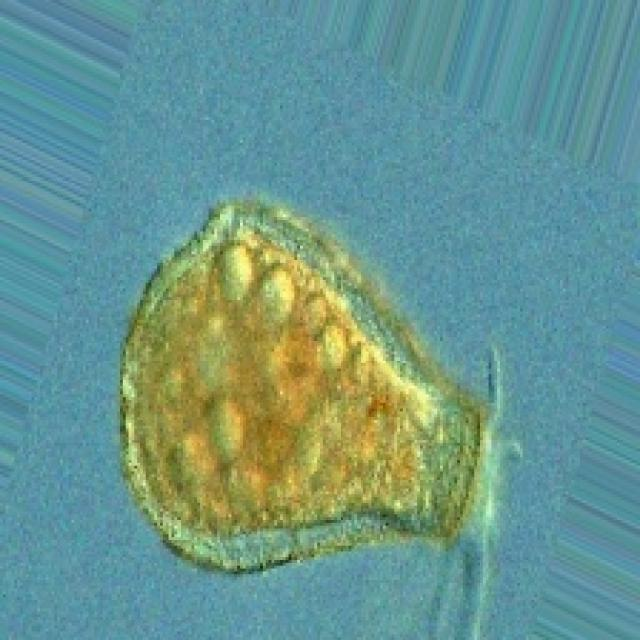Amoeba: (117, 195, 489, 574)
